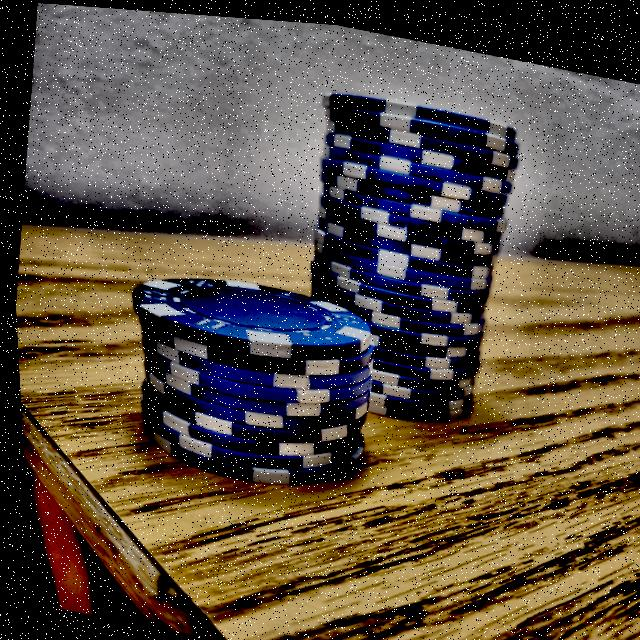Chip: (261, 56, 553, 428), (99, 222, 397, 516)
